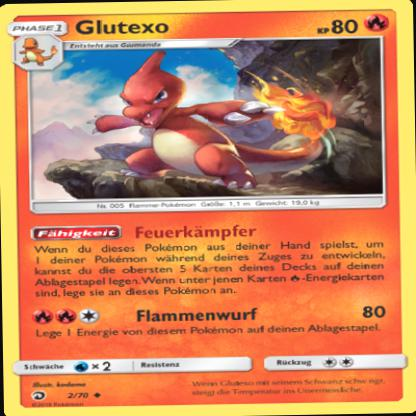Charmeleon: (85, 48, 332, 194)
